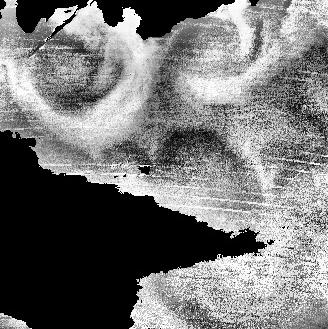AE: (15, 18, 148, 148), (167, 14, 264, 108)
